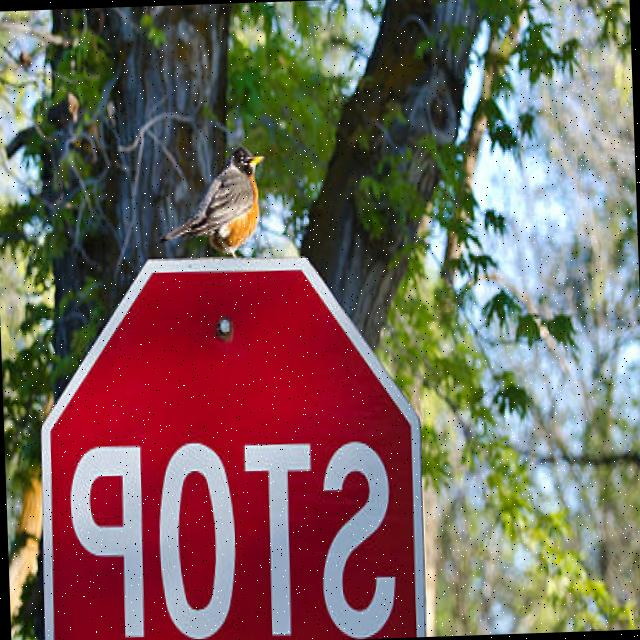stop: (27, 239, 432, 640)
